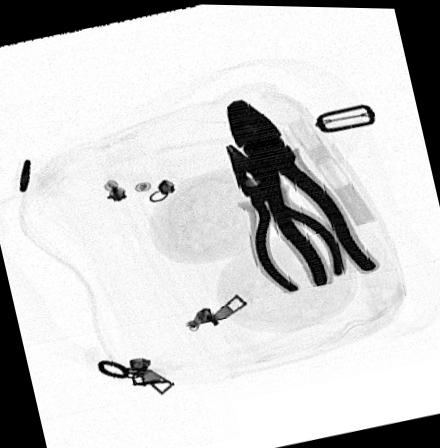Pliers: (223, 97, 379, 287), (223, 141, 346, 293)
